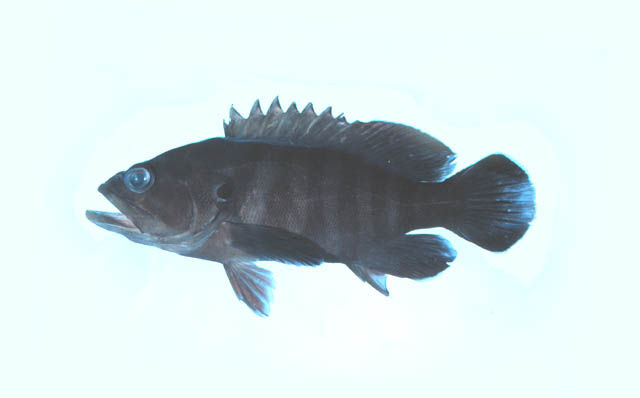fish: (86, 96, 536, 316)
